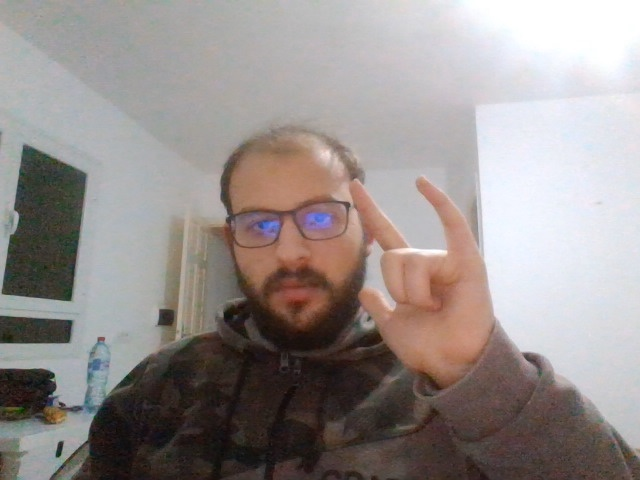I Love You: (353, 181, 484, 370)
